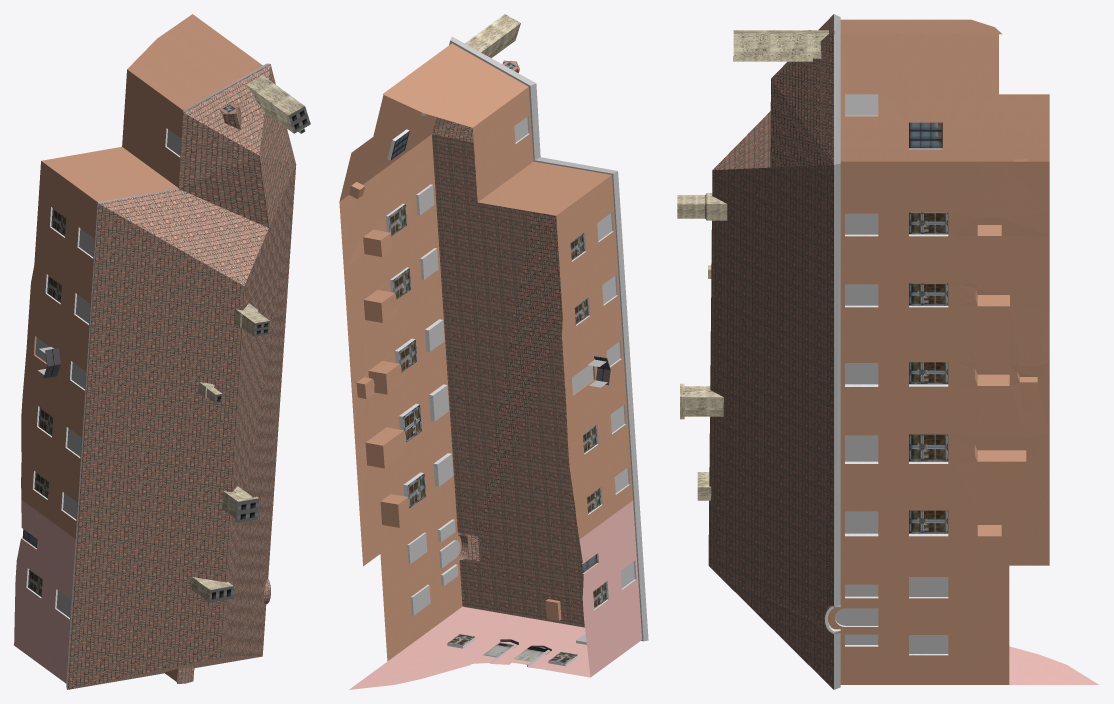
File: Kohtu_12.obj
3 renders of one model, left to right at view 1: azimuth 30°, elevation 25°; view 2: azimuth 150°, elevation 25°; view 3: azimuth 270°, elevation 25°, orthographic. The views are drawn at different scales.
Visible parts, largest first — view 1: Kohtu_12; view 2: Kohtu_12; view 3: Kohtu_12.
Part boxes in pixels (x1,y1,x2,y2): Kohtu_12: [14, 14, 310, 689]; Kohtu_12: [339, 14, 648, 689]; Kohtu_12: [677, 14, 1098, 689].
Bounding box in the file's own units: 18.29 × 45.5 × 26.02.
